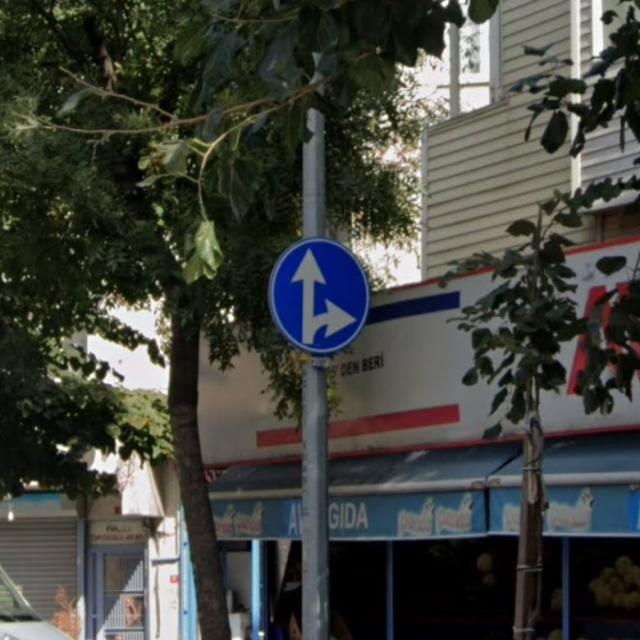ilerisag: (268, 239, 368, 354)
